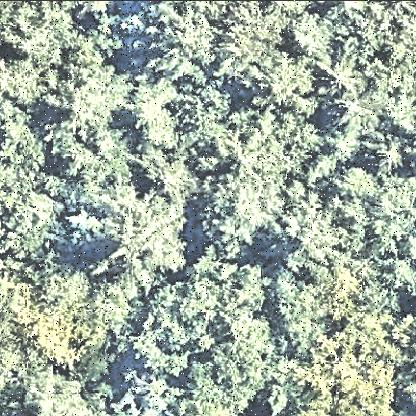tree-top: (79, 193, 184, 296), (181, 309, 273, 416), (287, 331, 401, 416), (10, 267, 96, 369), (124, 278, 206, 381), (334, 166, 416, 258), (200, 167, 288, 251), (220, 101, 323, 171), (49, 51, 131, 134), (186, 253, 275, 325), (213, 2, 288, 79), (61, 132, 141, 202), (6, 361, 102, 416), (271, 273, 337, 351), (368, 33, 416, 139), (169, 70, 239, 142), (1, 52, 75, 120), (1, 179, 60, 263), (1, 94, 50, 192), (330, 1, 393, 74), (8, 1, 78, 65), (130, 143, 204, 203), (283, 197, 343, 270), (149, 3, 213, 71), (131, 75, 185, 146), (260, 52, 318, 116), (115, 369, 185, 416), (257, 344, 303, 415), (331, 86, 384, 142), (364, 132, 415, 178), (283, 13, 332, 60), (320, 55, 374, 97)
